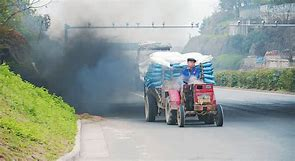smoke: (31, 36, 138, 114)
